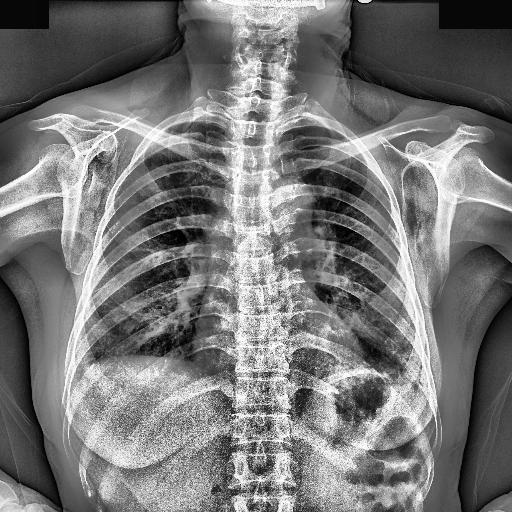0- Aortic enlargement: (267, 180, 317, 250), (261, 185, 315, 237)
13- Pulmonary fibrosis: (71, 278, 186, 384), (346, 270, 424, 386)
6- Infiltration: (71, 278, 186, 384), (346, 270, 424, 386)
7- Lung Opacity: (350, 286, 430, 398), (74, 286, 147, 367), (352, 308, 422, 374)
